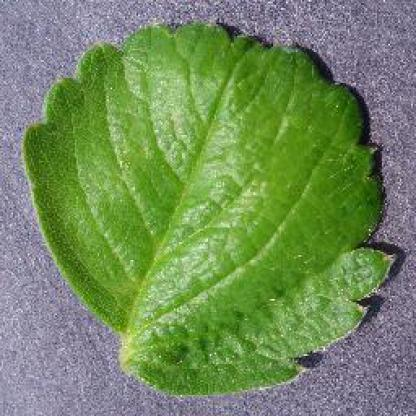healthy: (19, 10, 406, 400)
